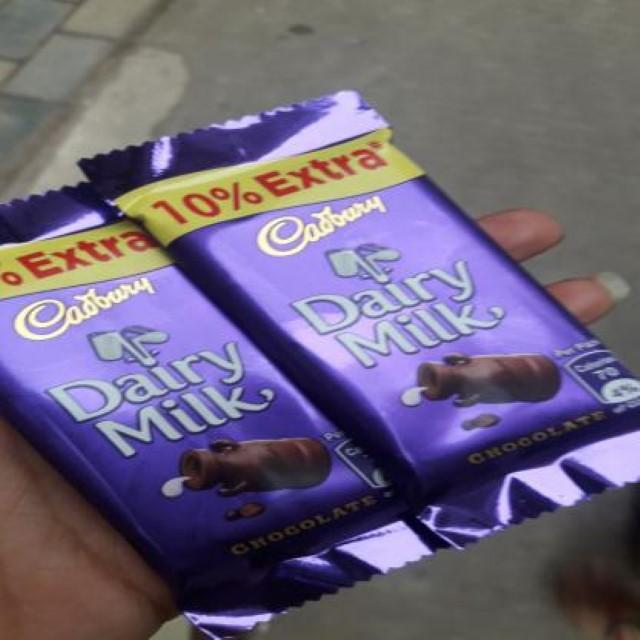cadbury_chocolate: (115, 80, 640, 522), (2, 192, 430, 610)
